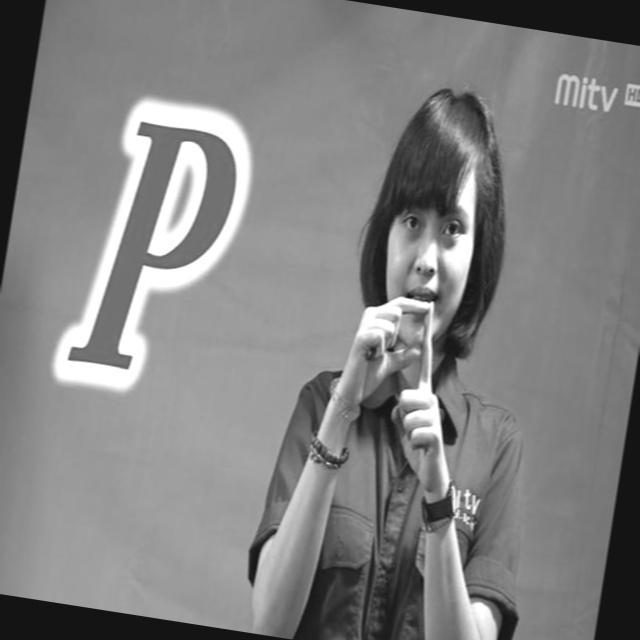P: (383, 296, 439, 457)
